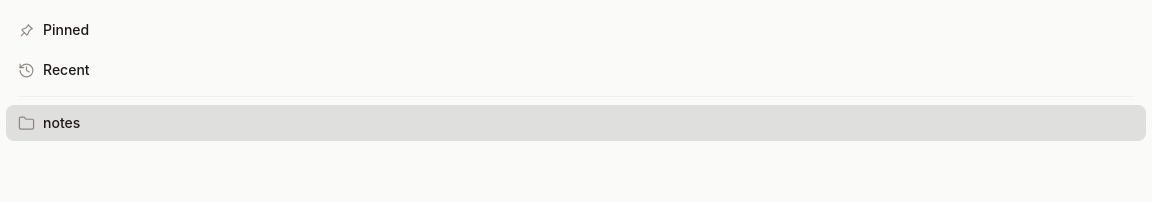
Test: FolderTreeView › opens root folder creation from the Notes context menu
The width and height of the screenshot is (1152, 202).
Right-click the button "notes" at (62, 122), box [6,105,1146,141]
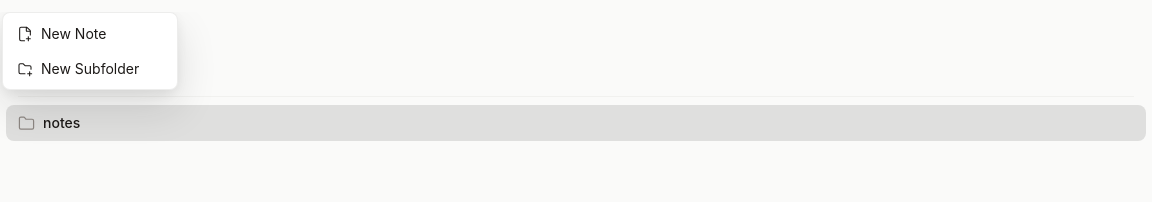
Click the menu item "New Subfolder" at (78, 68), box [17,60,139,77]
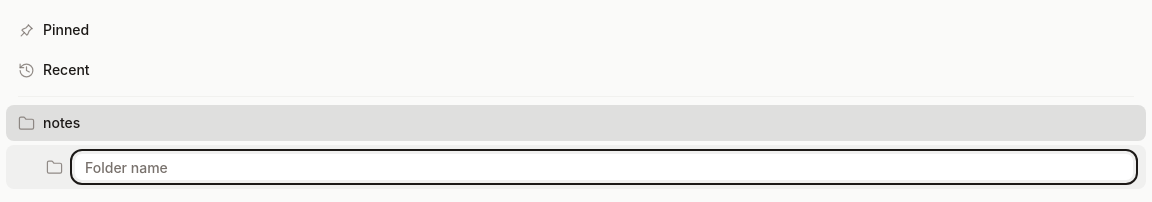
Check: the field with placeholder "Folder name" is shown, box [74,153,1134,181]
